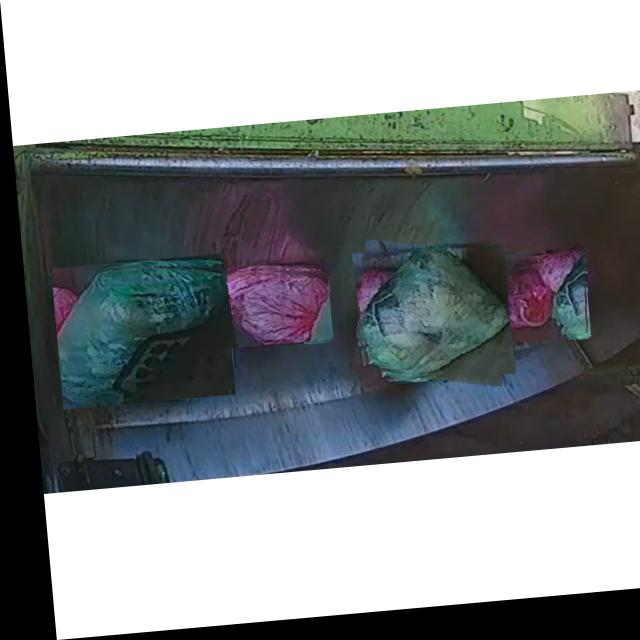general_trashbag: (51, 268, 218, 407), (354, 254, 503, 384)
other_trashbag: (471, 260, 579, 352), (195, 274, 323, 350)
